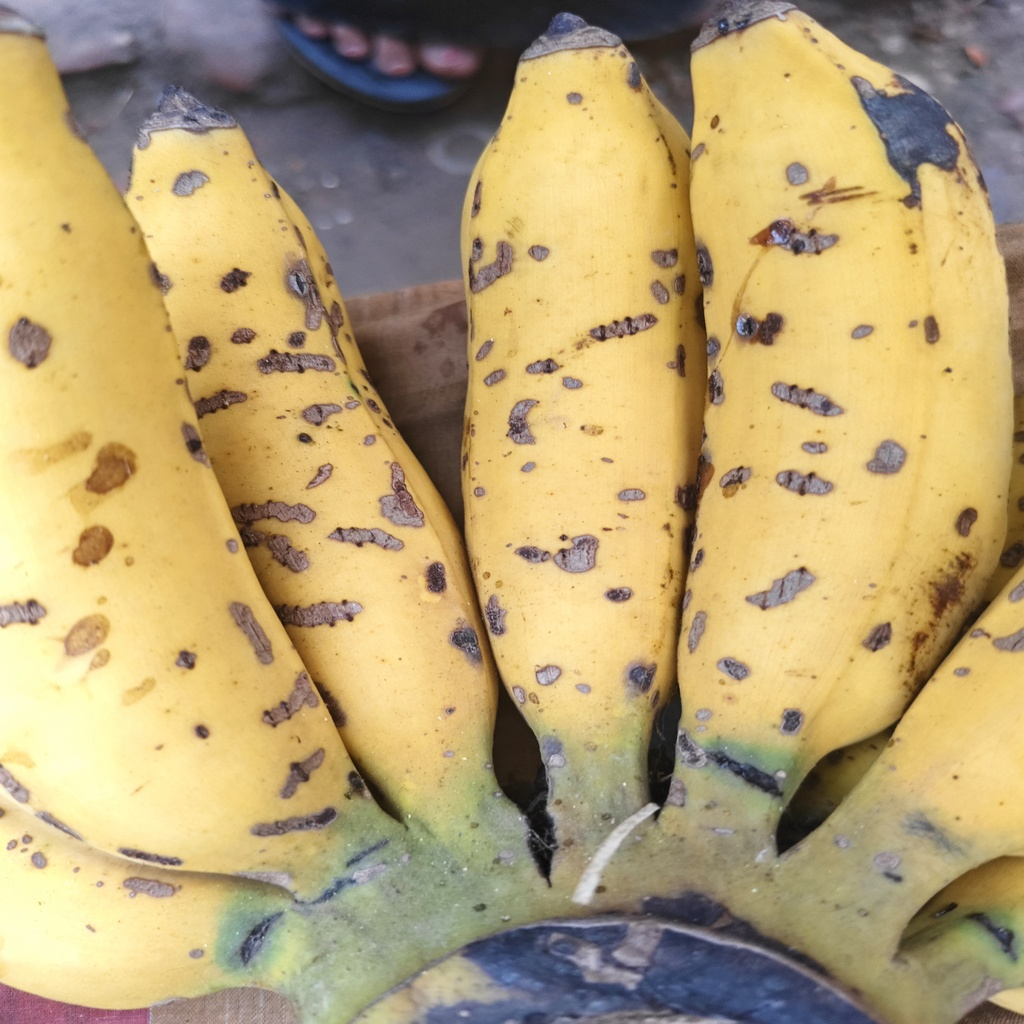unhealthy: (114, 105, 493, 782), (681, 21, 1012, 776), (458, 20, 697, 755)
